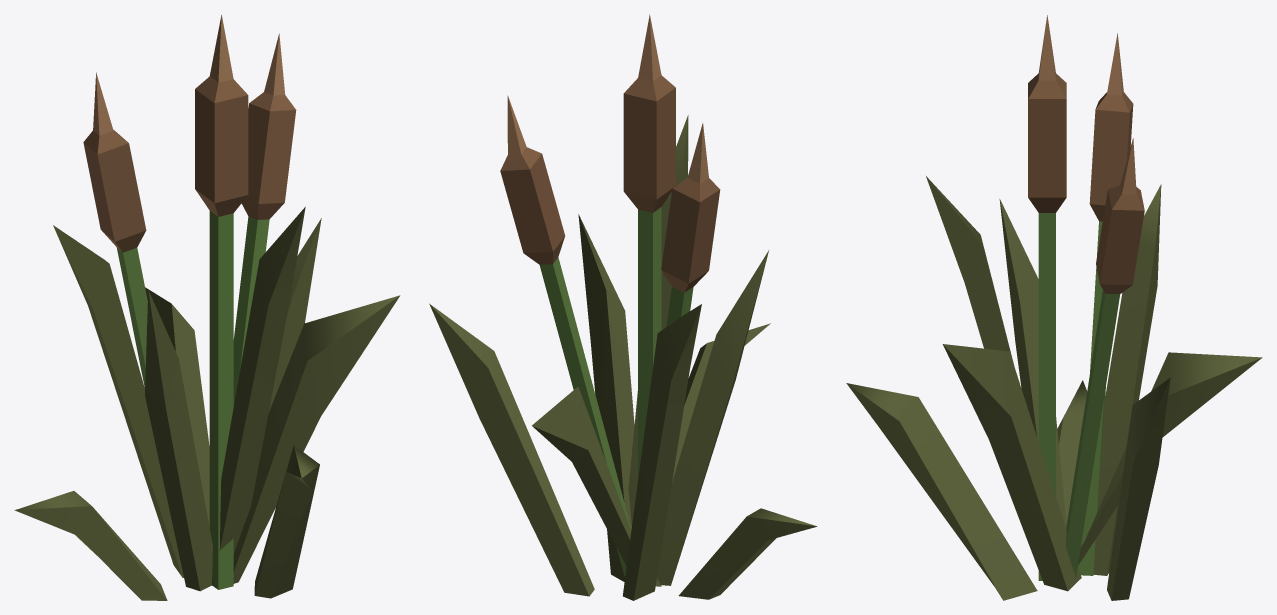
The model's file is SM_Env_Reeds_02.gltf.
3 views of the same model, side by side, from view 1: azimuth 30°, elevation 25°; view 2: azimuth 150°, elevation 25°; view 3: azimuth 270°, elevation 25° (orthographic).
Visible parts, largest first — view 1: SM_Env_Reeds_02; view 2: SM_Env_Reeds_02; view 3: SM_Env_Reeds_02.
Part boxes in pixels (left/top/right/bottom): SM_Env_Reeds_02: left=14, top=15, right=400, bottom=600; SM_Env_Reeds_02: left=429, top=14, right=817, bottom=600; SM_Env_Reeds_02: left=846, top=15, right=1262, bottom=600.
Bounding box in the file's own units: 0.889 × 1.38 × 0.9242.
Materials: 1 (1 with a texture image).
